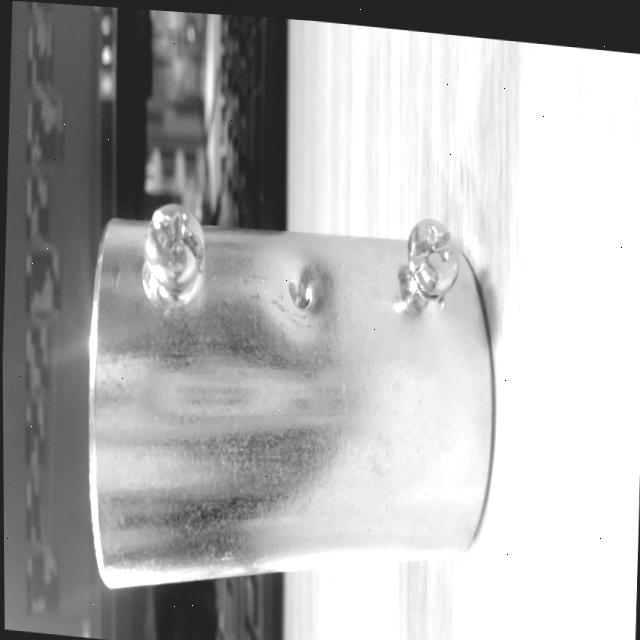Co_Nho: (85, 200, 495, 586)
